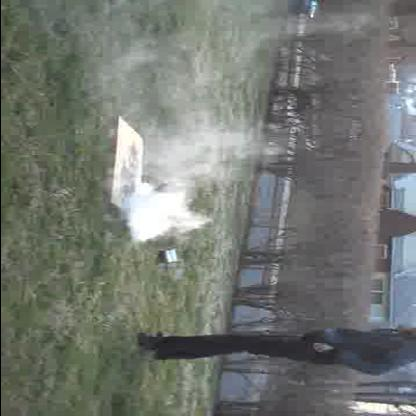Smoke: (131, 113, 228, 241)
